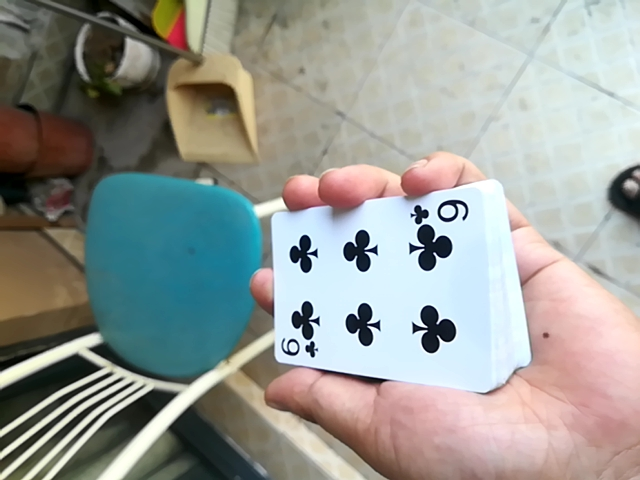mh 6: (241, 181, 531, 391)
